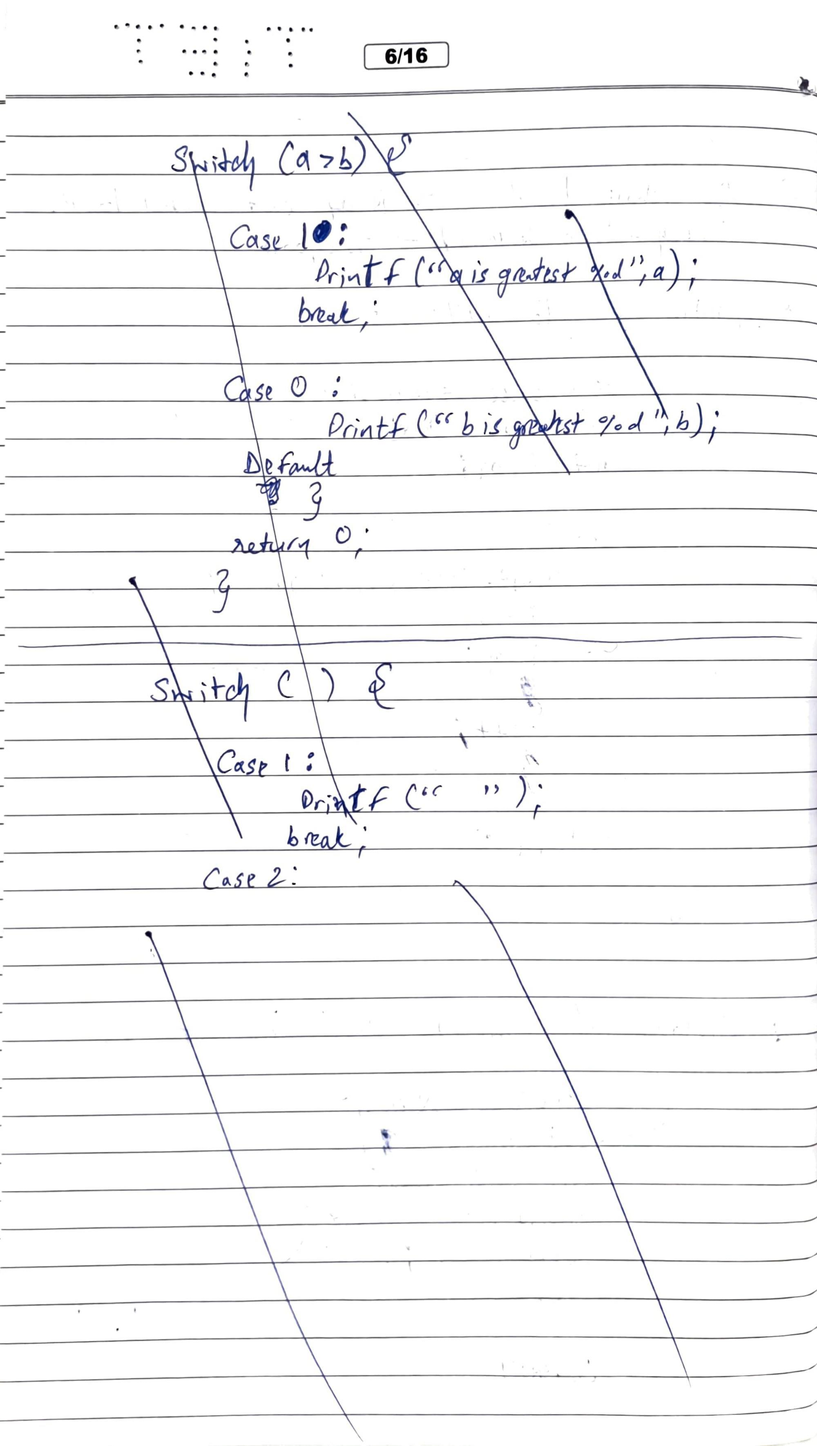cuttings: (111, 111, 731, 900)
